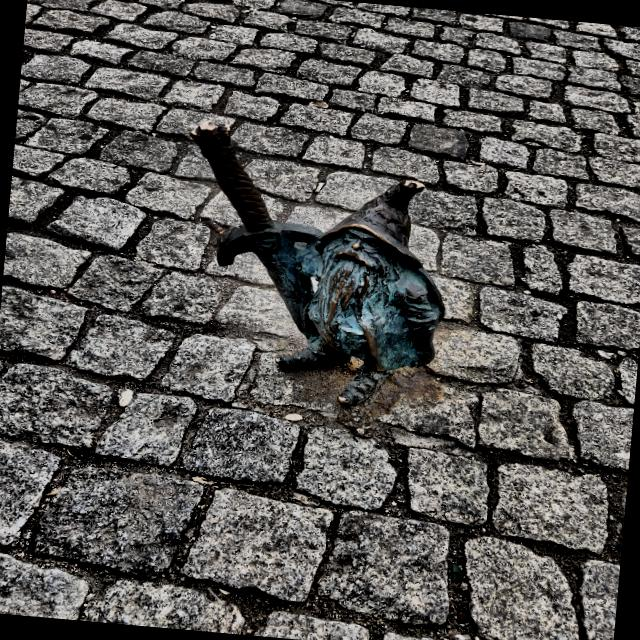Giermek_Grun-Waldek: (189, 122, 443, 405)
